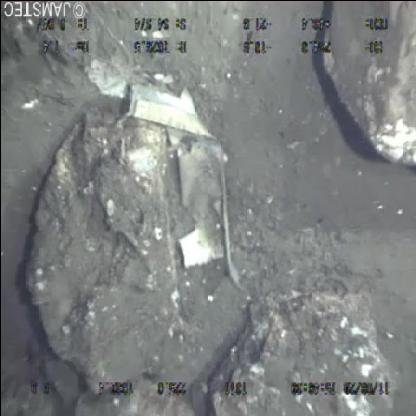Rác: (121, 75, 247, 289)
